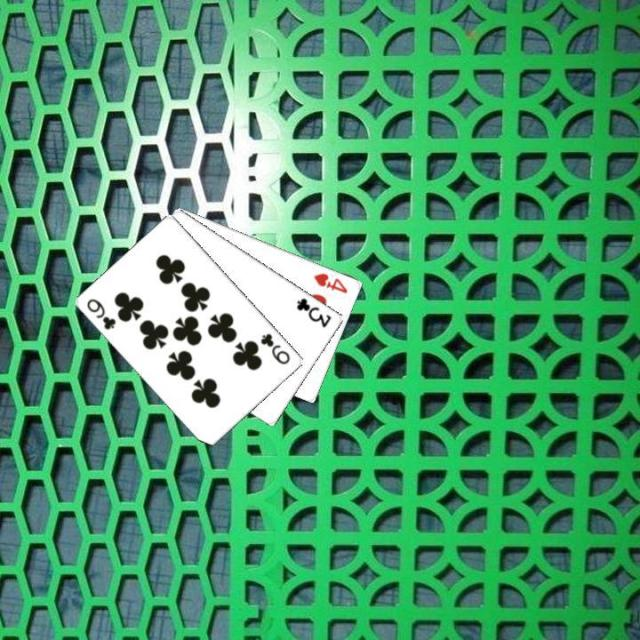3C: (292, 293, 334, 329)
4H: (310, 269, 350, 295)
9C: (83, 294, 118, 332), (257, 329, 292, 366)
